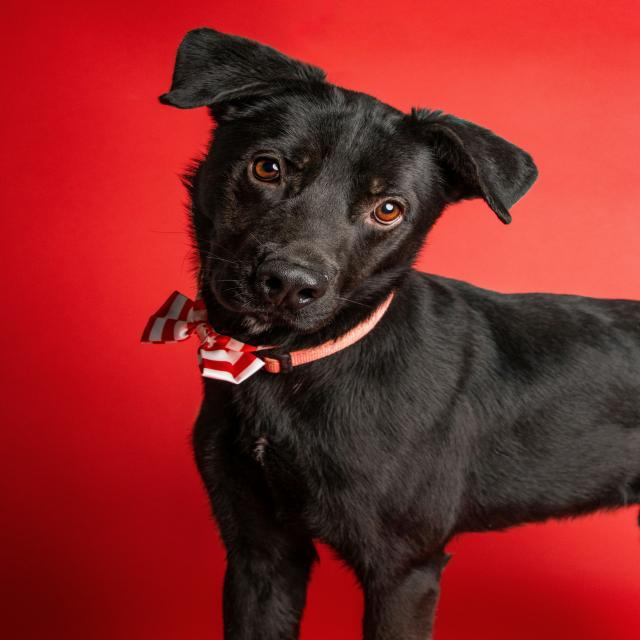dog: (119, 10, 553, 360)
